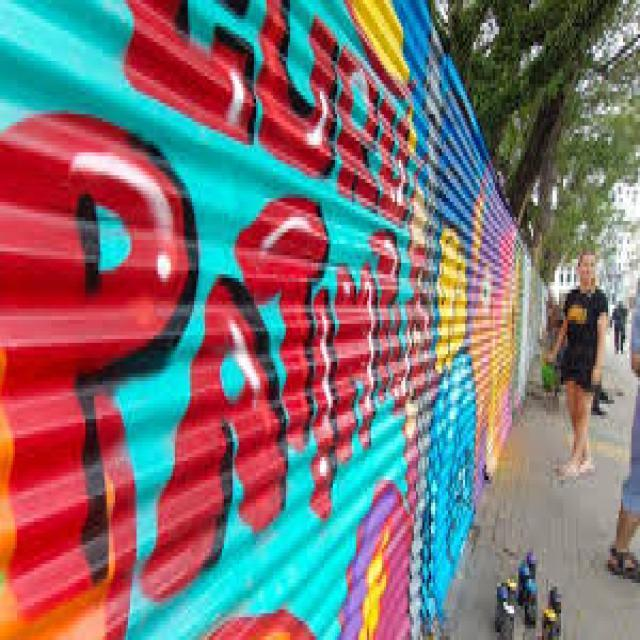-: (1, 0, 407, 639), (412, 5, 474, 622), (480, 168, 520, 493)
